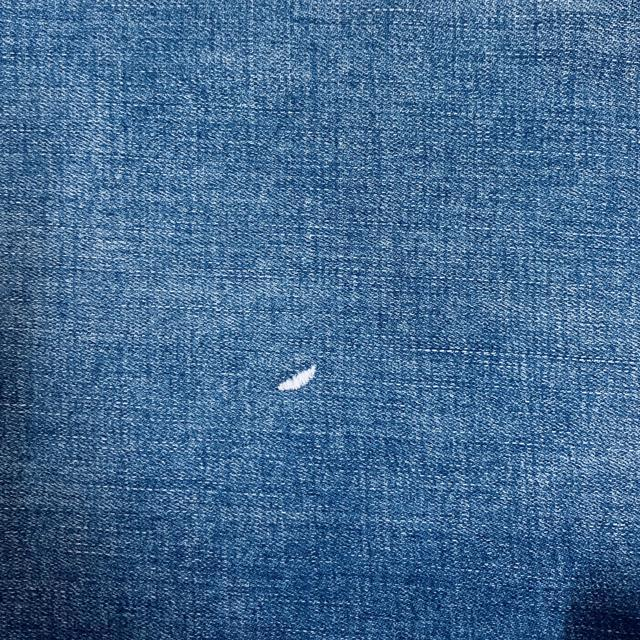Knot: (277, 365, 316, 392)
